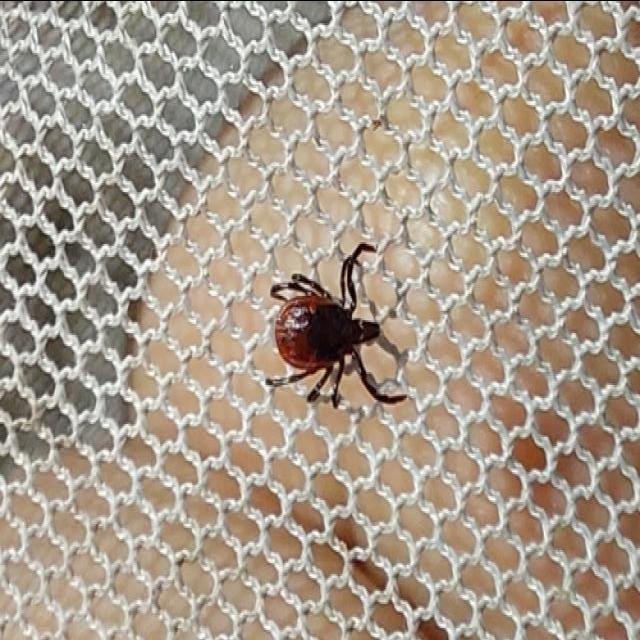Ixodes Ricinus-F: (266, 241, 407, 410)
